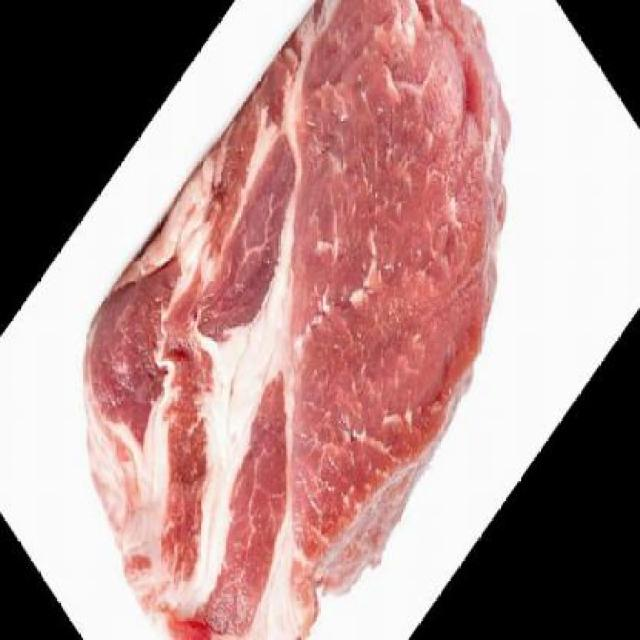beef: (86, 0, 512, 640)
